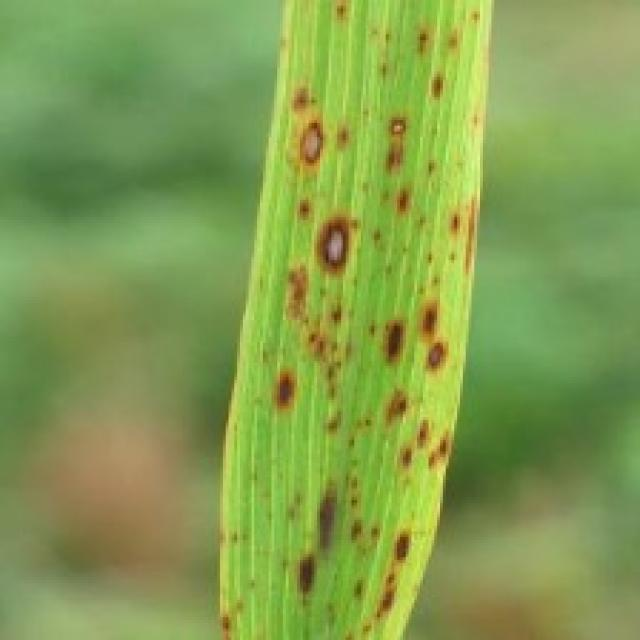Rice___Brown_Spot: (220, 0, 496, 637)
